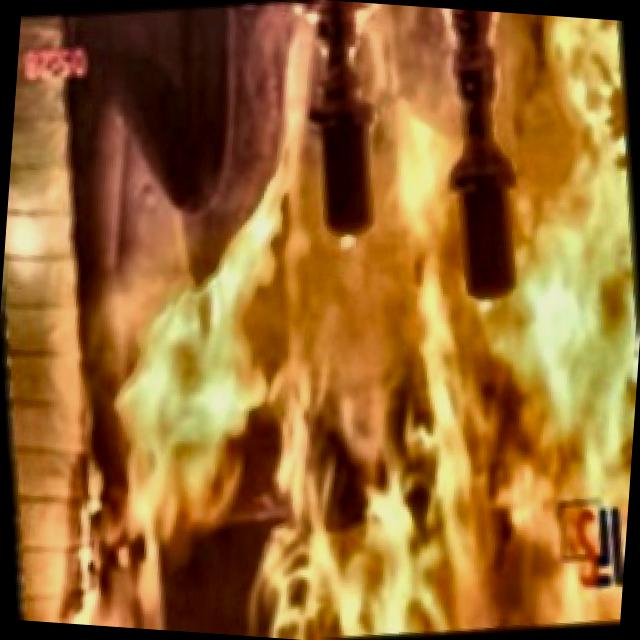fire: (58, 25, 640, 640)
